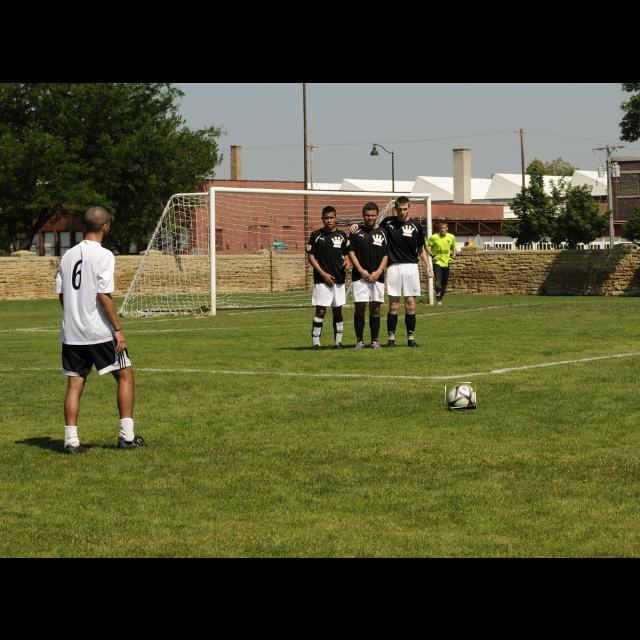Football: (446, 383, 476, 409)
